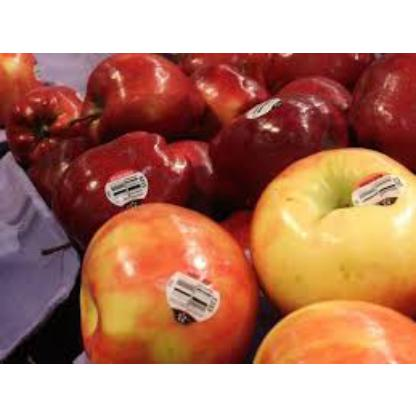apple: (90, 203, 252, 358), (255, 140, 407, 300), (210, 89, 352, 183), (60, 129, 192, 226), (83, 52, 201, 132), (10, 80, 94, 156)
